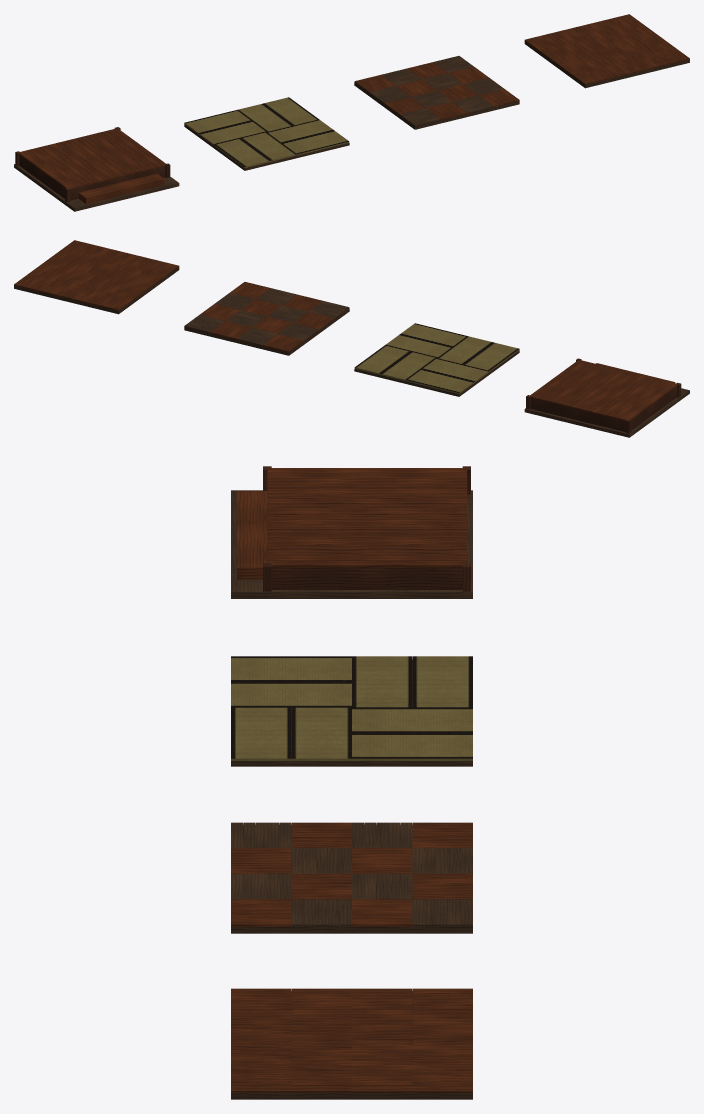
Rendered from floor_modules.glb.
3 renders of one model, top to bottom at view 1: azimuth 30°, elevation 25°; view 2: azimuth 150°, elevation 25°; view 3: azimuth 270°, elevation 25°, orthographic. The views are drawn at different scales.
Visible parts, largest first — view 1: IC17_Floor_Raised_Platform__Mesh, IC17_Floor_Tile_Parquet__Mesh, IC17_Floor_Wood_Polished__Mesh, IC17_Floor_Tatami__Mesh; view 2: IC17_Floor_Raised_Platform__Mesh, IC17_Floor_Tile_Parquet__Mesh, IC17_Floor_Wood_Polished__Mesh, IC17_Floor_Tatami__Mesh; view 3: IC17_Floor_Raised_Platform__Mesh, IC17_Floor_Tile_Parquet__Mesh, IC17_Floor_Wood_Polished__Mesh, IC17_Floor_Tatami__Mesh.
Part boxes in pixels (box(x1,y1,x2,y2)): IC17_Floor_Raised_Platform__Mesh: box(14, 127, 179, 211); IC17_Floor_Tile_Parquet__Mesh: box(354, 56, 519, 129); IC17_Floor_Wood_Polished__Mesh: box(524, 14, 689, 88); IC17_Floor_Tatami__Mesh: box(184, 97, 349, 170); IC17_Floor_Raised_Platform__Mesh: box(524, 358, 689, 437); IC17_Floor_Tile_Parquet__Mesh: box(184, 282, 349, 355); IC17_Floor_Wood_Polished__Mesh: box(14, 240, 179, 314); IC17_Floor_Tatami__Mesh: box(354, 323, 519, 396); IC17_Floor_Raised_Platform__Mesh: box(231, 466, 472, 598); IC17_Floor_Tile_Parquet__Mesh: box(231, 822, 472, 933); IC17_Floor_Wood_Polished__Mesh: box(231, 988, 472, 1099); IC17_Floor_Tatami__Mesh: box(231, 656, 472, 766).
Size of the model in its own units: 23.5 by 0.61 by 4.
4 materials, 4 textured.
